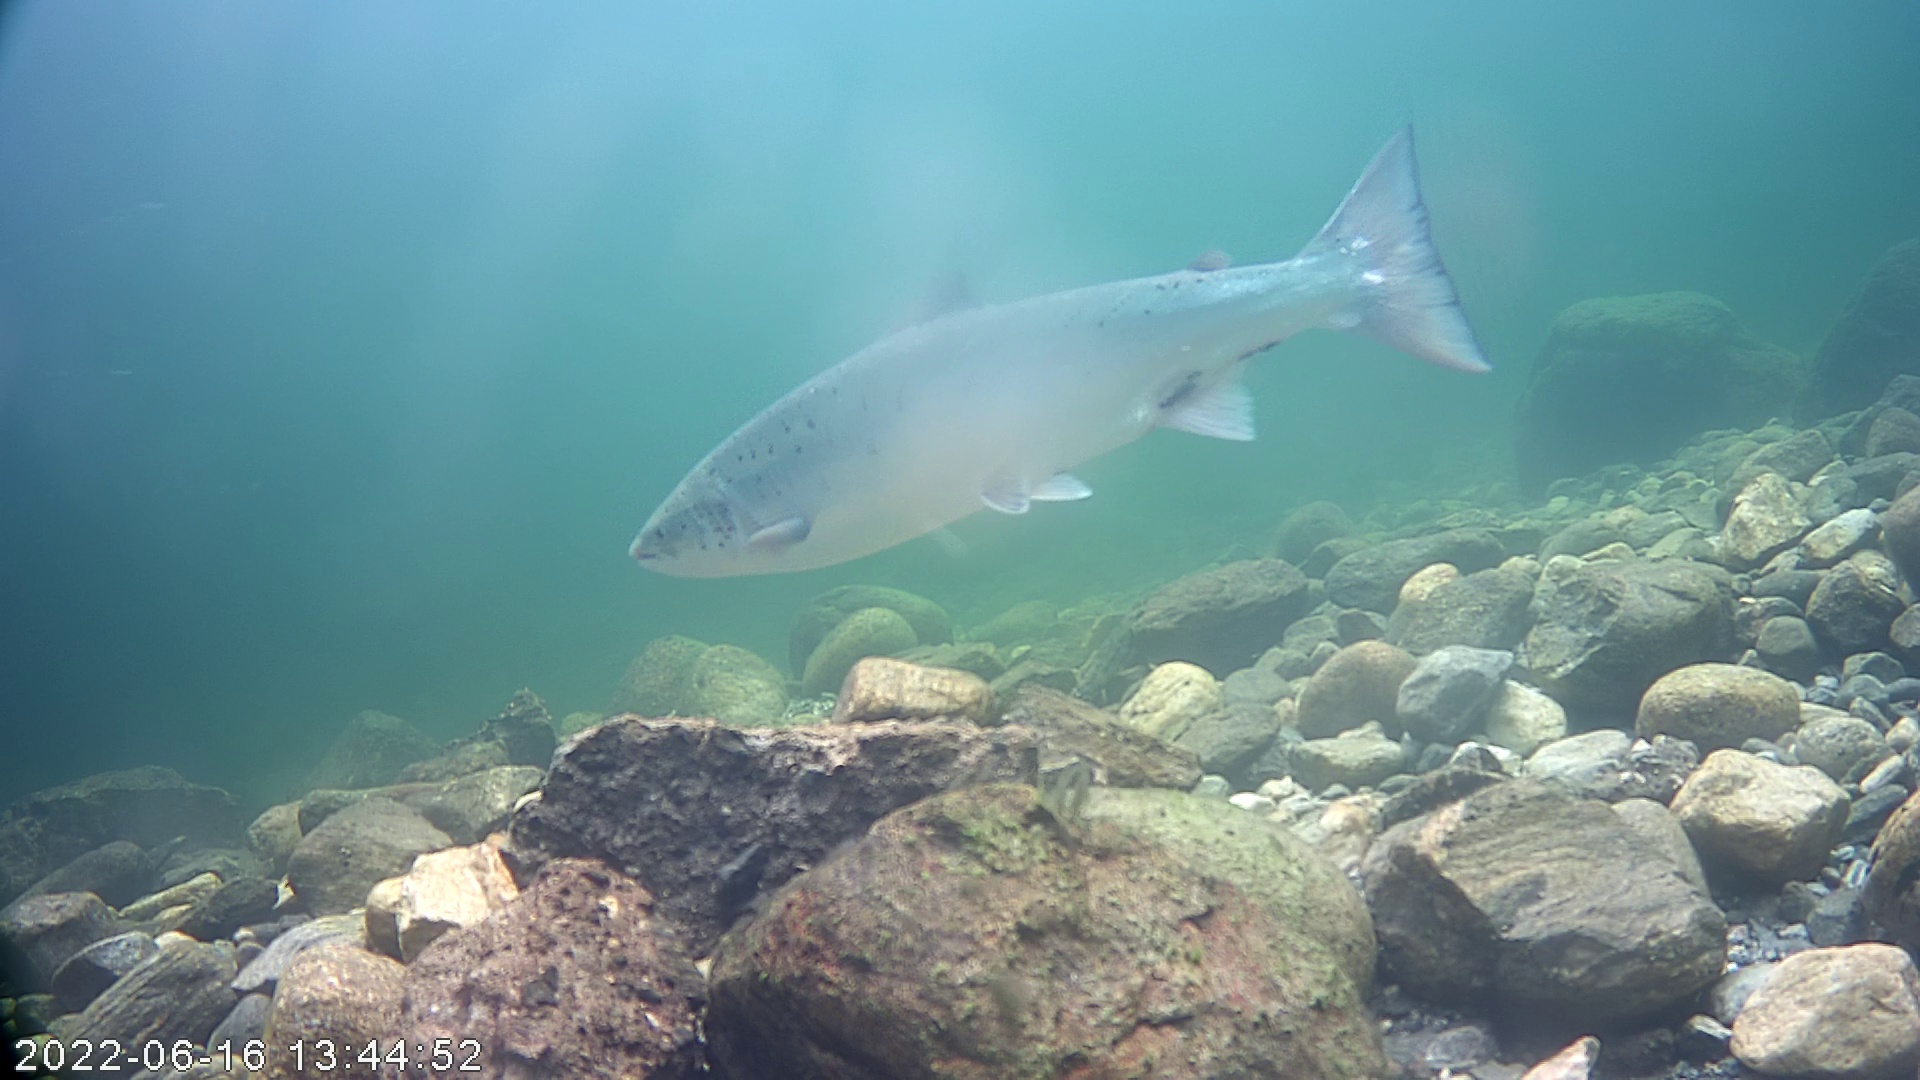salmon: (622, 117, 1497, 584)
